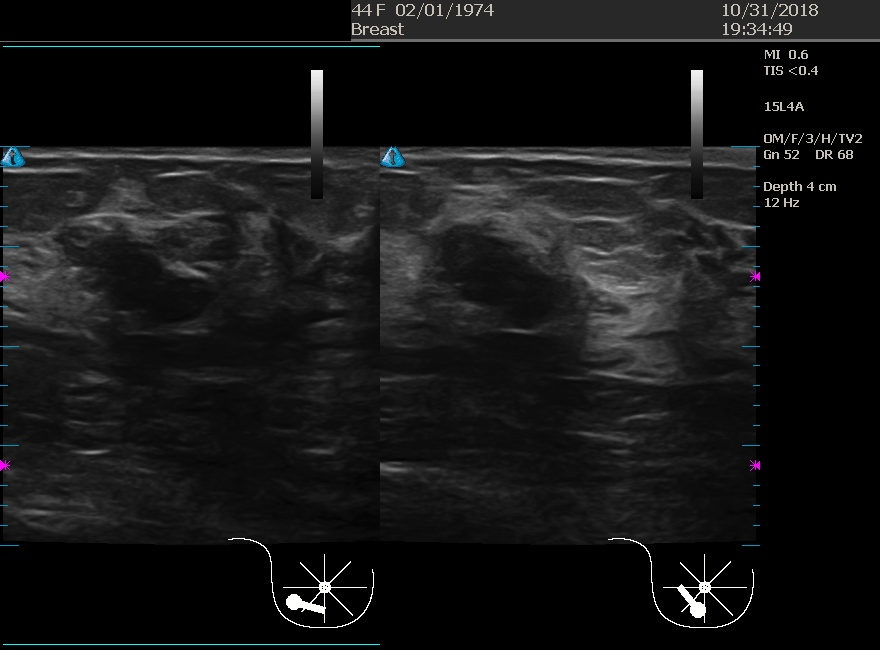BIRADS_4: (44, 184, 236, 376), (409, 166, 601, 358)
